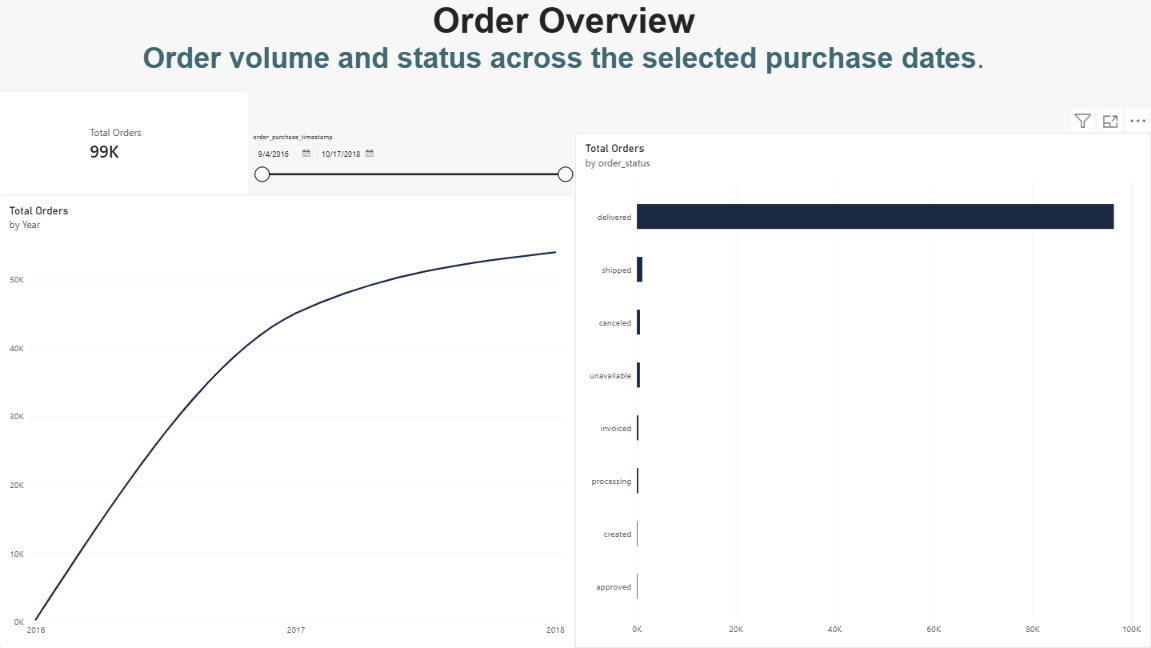

Layout of this report page (visuals, bound fields, positions):
{"tool":"powerbi","page":{"name":"Order Overview","canvas":[1920,1080],"ordinal":0},"visuals":[{"type":"clusteredBarChart","fields":{"Category":["gold v_order_experience.order_status"],"Y":["gold v_order_experience.Total Orders"]},"box":[920,324,890,756],"z":0},{"type":"lineChart","fields":{"Category":["gold v_order_experience.order_purchase_timestamp.Variation.Date Hierarchy.Year","gold v_order_experience.order_purchase_timestamp.Variation.Date Hierarchy.Month"],"Y":["gold v_order_experience.Total Orders"]},"box":[0,325,920,756],"z":1000},{"type":"slicer","fields":{"Values":["gold v_order_experience.order_purchase_timestamp"]},"box":[144,228,1666,96],"z":2000},{"type":"cardVisual","fields":{"Data":["gold v_order_experience.Total Orders"]},"box":[0,228,144,96],"z":3000},{"type":"textbox","box":[72,2,1738,150],"z":4000}]}

Visuals, with their boxes in screenshot pixels (x1, y1, x2, y2), scaled from the page's 1920x1080 canvas onto the 1151x648 screenshot:
clusteredBarChart - gold v_order_experience.order_status x gold v_order_experience.Total Orders: detection(552, 194, 1085, 647)
lineChart - gold v_order_experience.order_purchase_timestamp.Variation.Date Hierarchy.Year x gold v_order_experience.order_purchase_timestamp.Variation.Date Hierarchy.Month: detection(0, 195, 552, 647)
slicer - gold v_order_experience.order_purchase_timestamp: detection(86, 137, 1085, 194)
cardVisual - gold v_order_experience.Total Orders: detection(0, 137, 86, 194)
textbox: detection(43, 1, 1085, 91)
